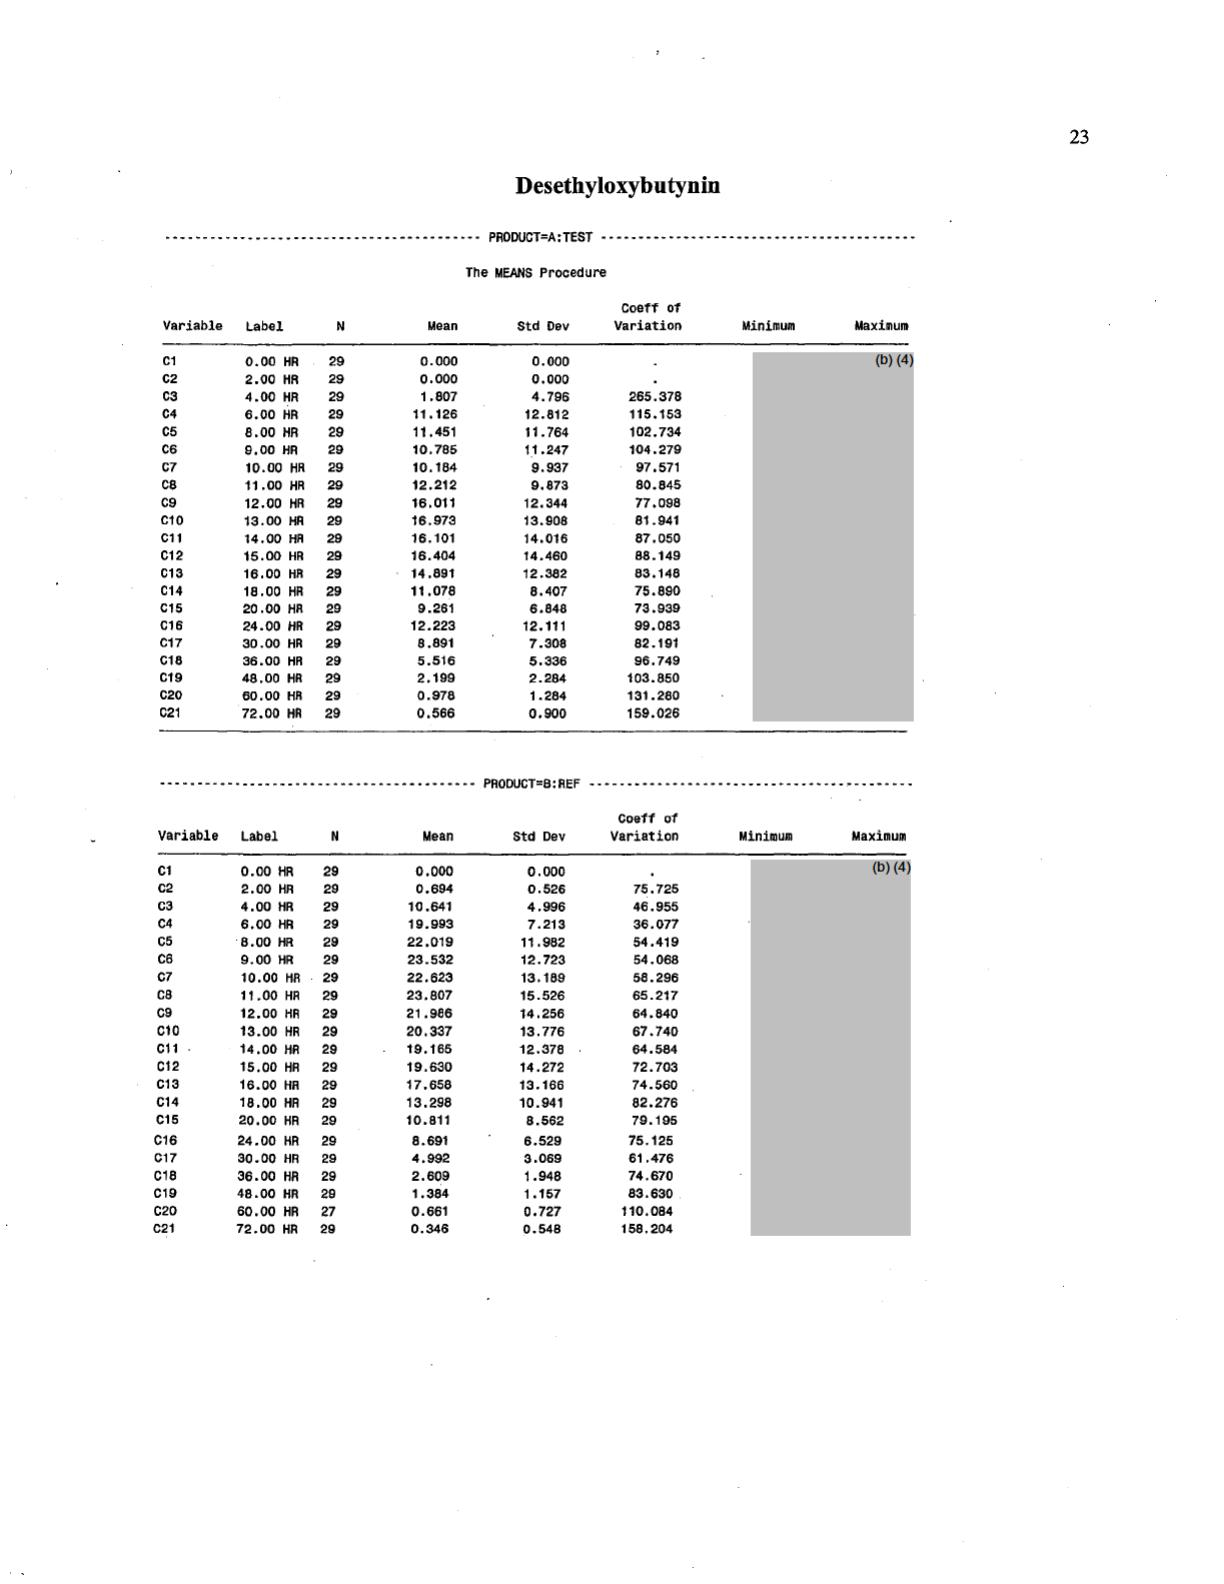partial_lined: (156, 288, 914, 735), (150, 806, 910, 1239)
